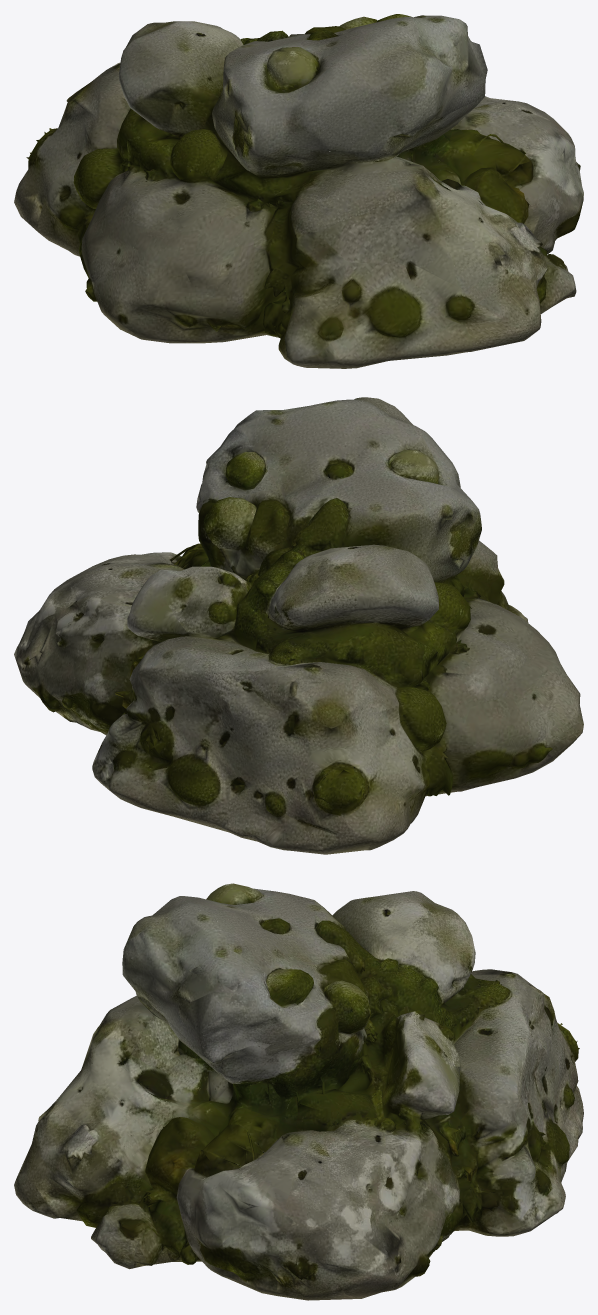
File: rock_b.glb
3 views of the same model, one above another, from view 1: azimuth 30°, elevation 25°; view 2: azimuth 150°, elevation 25°; view 3: azimuth 270°, elevation 25° (orthographic). The views are drawn at different scales.
Visible parts, largest first — view 1: tripo_node_82c85f61-46b7-4d3c-b825-85a661df0905; view 2: tripo_node_82c85f61-46b7-4d3c-b825-85a661df0905; view 3: tripo_node_82c85f61-46b7-4d3c-b825-85a661df0905.
Part boxes in pixels (<box>): tripo_node_82c85f61-46b7-4d3c-b825-85a661df0905: <box>14,14,583,368</box>; tripo_node_82c85f61-46b7-4d3c-b825-85a661df0905: <box>14,397,583,854</box>; tripo_node_82c85f61-46b7-4d3c-b825-85a661df0905: <box>14,883,583,1300</box>.
Size of the model in its own units: 0.9799 by 0.5261 by 0.9425.
Materials: 1 (1 with a texture image).
